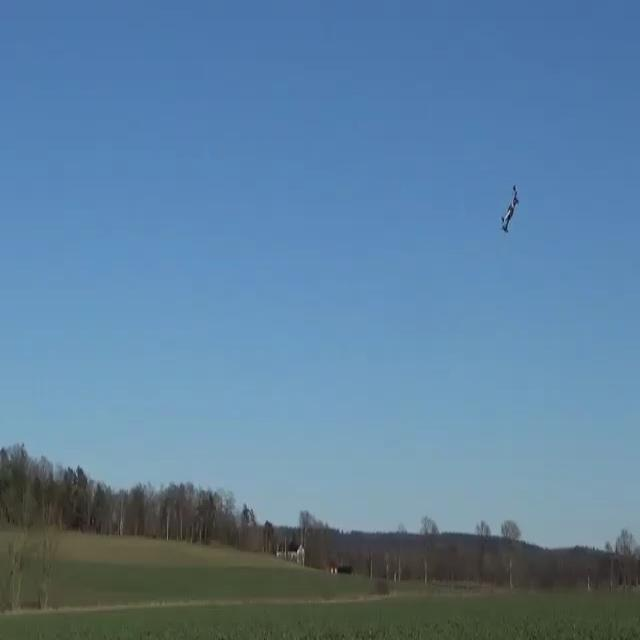Drone: (480, 187, 538, 234)
